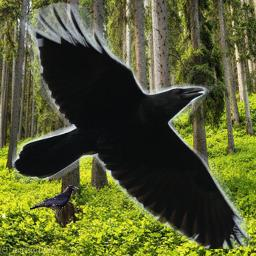Crow: (12, 1, 253, 249), (29, 185, 79, 221)
